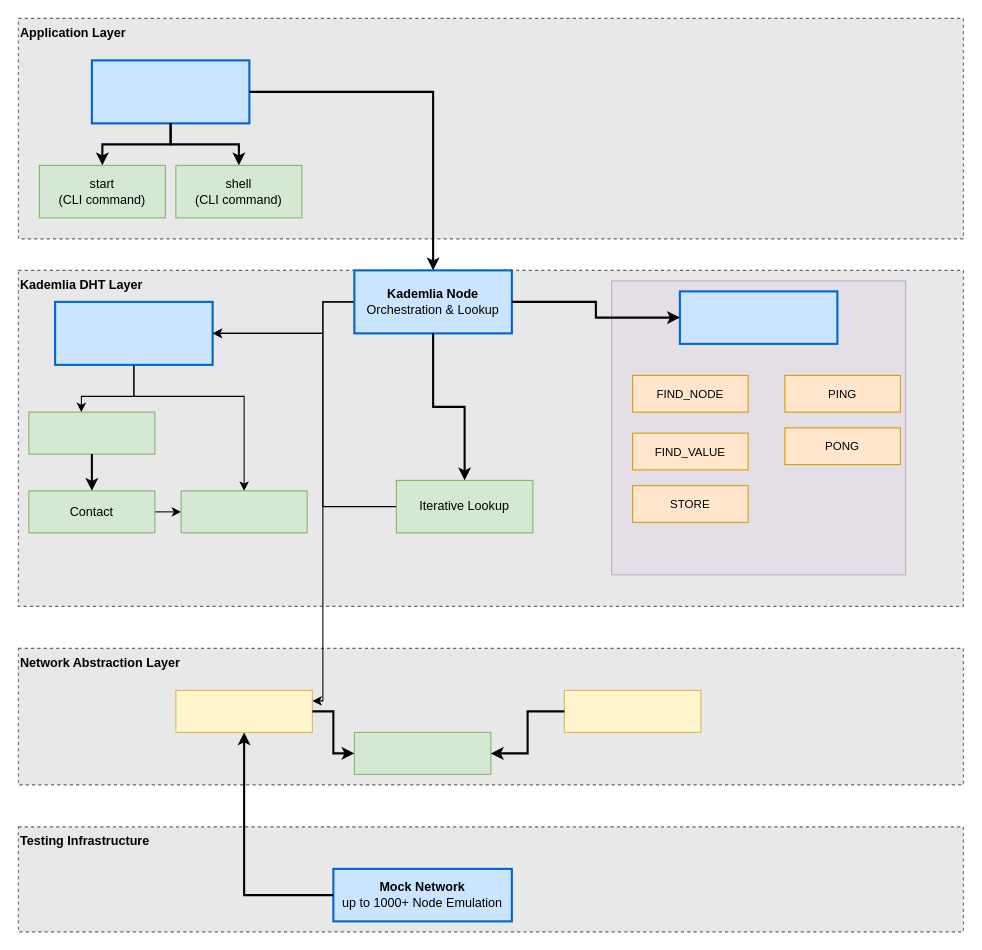
This 982x950 diagram has some shape labels left out. Each missing label, with the centre of its shape:
Bucket: point (91, 432)
CLI Interface (Cobra): point (170, 91)
Connection Interface: point (632, 710)
ID (160-bit): point (243, 511)
Message Handlers: point (758, 317)
Network Interface: point (243, 710)
Routing Table 160 Buckets k=20: point (133, 332)
UDP Transport: point (422, 752)
